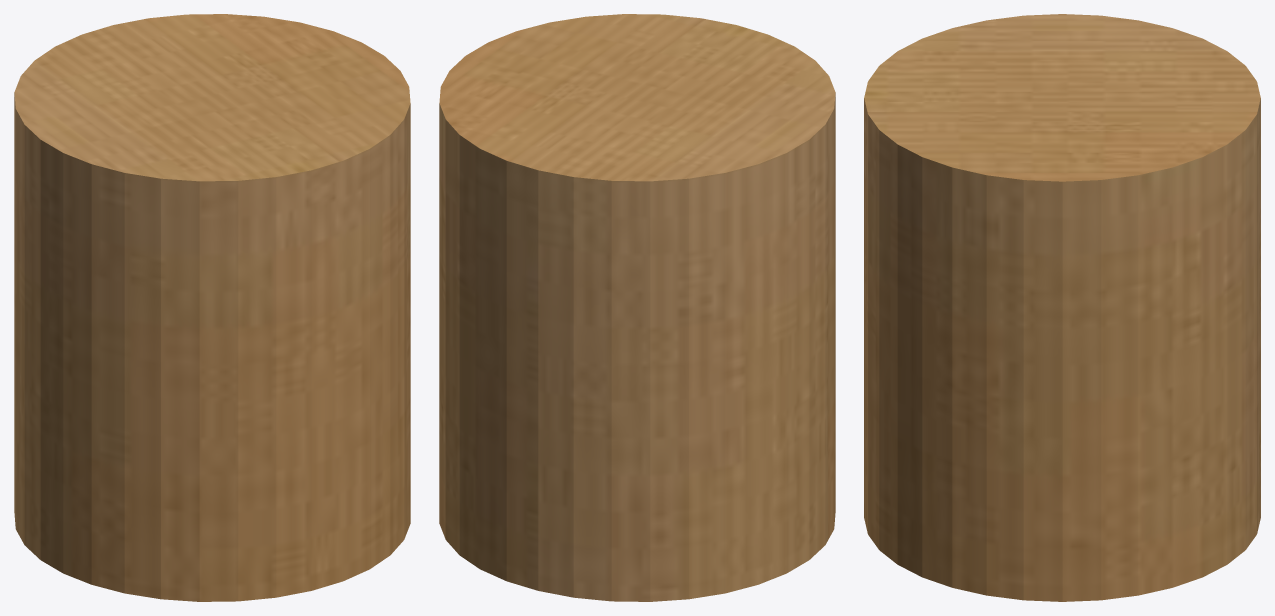
The model's file is robot_wheels.dae.
3 renders of one model, left to right at view 1: azimuth 30°, elevation 25°; view 2: azimuth 150°, elevation 25°; view 3: azimuth 270°, elevation 25°, orthographic.
Parts seen in each view (by area): view 1: Cylinder; view 2: Cylinder; view 3: Cylinder.
Boxes of the visible parts, box(x1,y1,x2,y2) form: Cylinder: box(14, 14, 410, 601); Cylinder: box(439, 14, 835, 601); Cylinder: box(864, 14, 1260, 601).
Size of the model in its own units: 0.065 by 0.065 by 0.076.
1 material, 1 textured.
